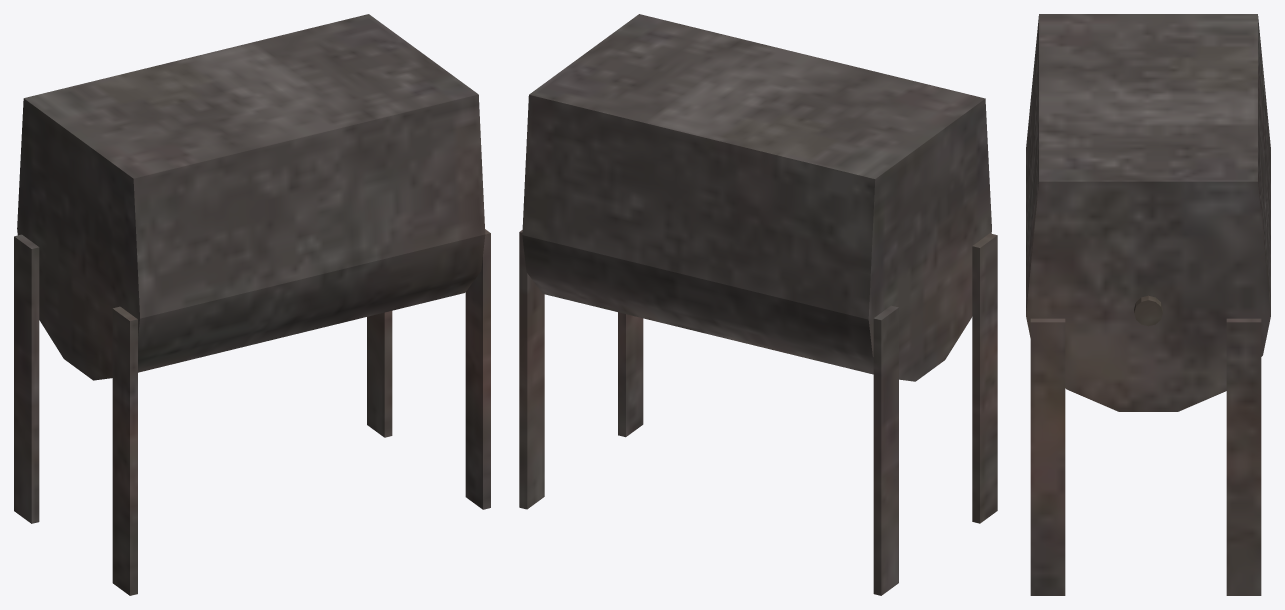
File: miningWinches_A.glb
3 renders of one model, left to right at view 1: azimuth 30°, elevation 25°; view 2: azimuth 150°, elevation 25°; view 3: azimuth 270°, elevation 25°, orthographic.
Visible parts, largest first — view 1: miningWinches_A; view 2: miningWinches_A; view 3: miningWinches_A.
Part boxes in pixels (x1,y1,x2,y2): miningWinches_A: [14, 14, 490, 595]; miningWinches_A: [519, 14, 997, 595]; miningWinches_A: [1026, 14, 1270, 595].
Bounding box in the file's own units: 0.3492 × 0.3799 × 0.2055.
Materials: 1 (1 with a texture image).
